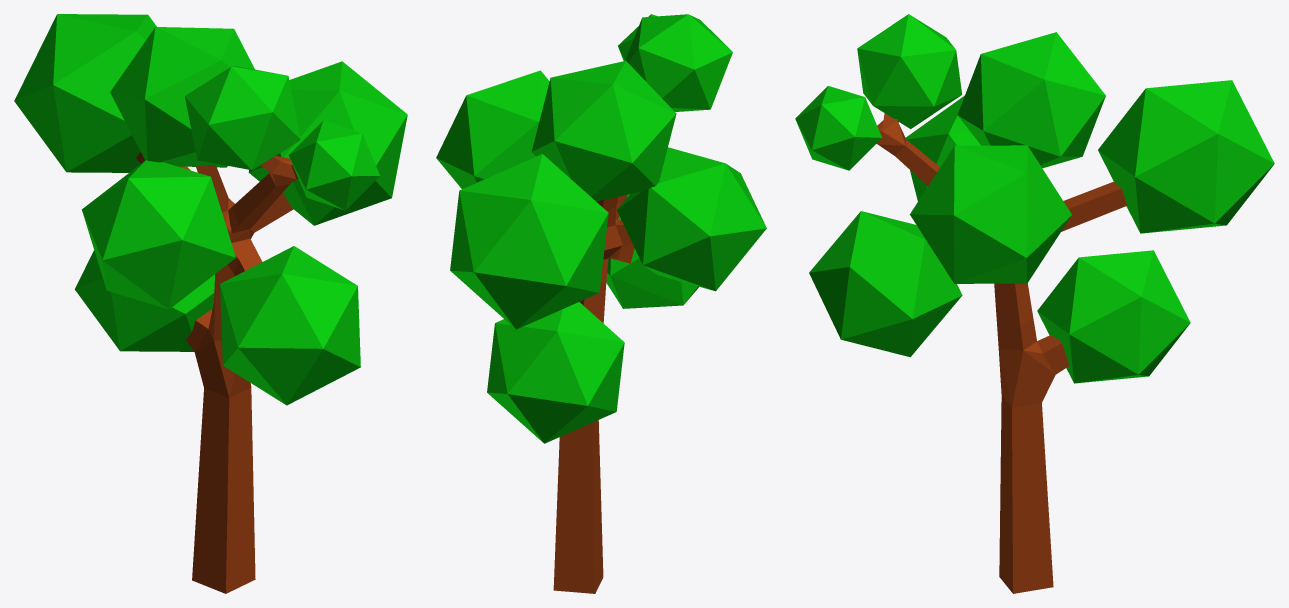
The model's file is tree3.obj.
The picture shows the model from 3 angles, left to right: view 1: azimuth 30°, elevation 25°; view 2: azimuth 150°, elevation 25°; view 3: azimuth 270°, elevation 25°; orthographic projection. The views are drawn at different scales.
Parts seen in each view (by area): view 1: Cube, Icosphere.008, Icosphere.004, Icosphere.001, Icosphere.003, Icosphere.005, Icosphere.006, Icosphere, Icosphere.007; view 2: Icosphere.001, Icosphere.003, Icosphere, Icosphere.004, Cube, Icosphere.005, Icosphere.006, Icosphere.008; view 3: Icosphere.001, Cube, Icosphere.005, Icosphere.008, Icosphere, Icosphere.003, Icosphere.006, Icosphere.007, Icosphere.004.
Boxes of the visible parts, <box> form: Cube: <box>136,152,298,593</box>; Icosphere.008: <box>220,246,360,405</box>; Icosphere.004: <box>81,160,235,309</box>; Icosphere.001: <box>14,14,156,172</box>; Icosphere.003: <box>110,27,254,167</box>; Icosphere.005: <box>248,61,407,225</box>; Icosphere.006: <box>185,65,300,170</box>; Icosphere: <box>74,250,214,351</box>; Icosphere.007: <box>288,120,380,210</box>; Icosphere.001: <box>450,154,608,329</box>; Icosphere.003: <box>531,60,676,201</box>; Icosphere: <box>487,302,624,443</box>; Icosphere.004: <box>617,147,766,291</box>; Cube: <box>553,194,634,593</box>; Icosphere.005: <box>436,70,549,188</box>; Icosphere.006: <box>625,14,732,111</box>; Icosphere.008: <box>606,194,698,308</box>; Icosphere.001: <box>1098,80,1274,233</box>; Cube: <box>876,113,1127,593</box>; Icosphere.005: <box>910,145,1071,283</box>; Icosphere.008: <box>809,211,962,357</box>; Icosphere: <box>1037,250,1190,383</box>; Icosphere.003: <box>957,32,1105,168</box>; Icosphere.006: <box>857,14,962,128</box>; Icosphere.007: <box>795,86,881,170</box>; Icosphere.004: <box>906,95,980,201</box>.
Size of the model in its own units: 3.1 by 5.44 by 4.35.
